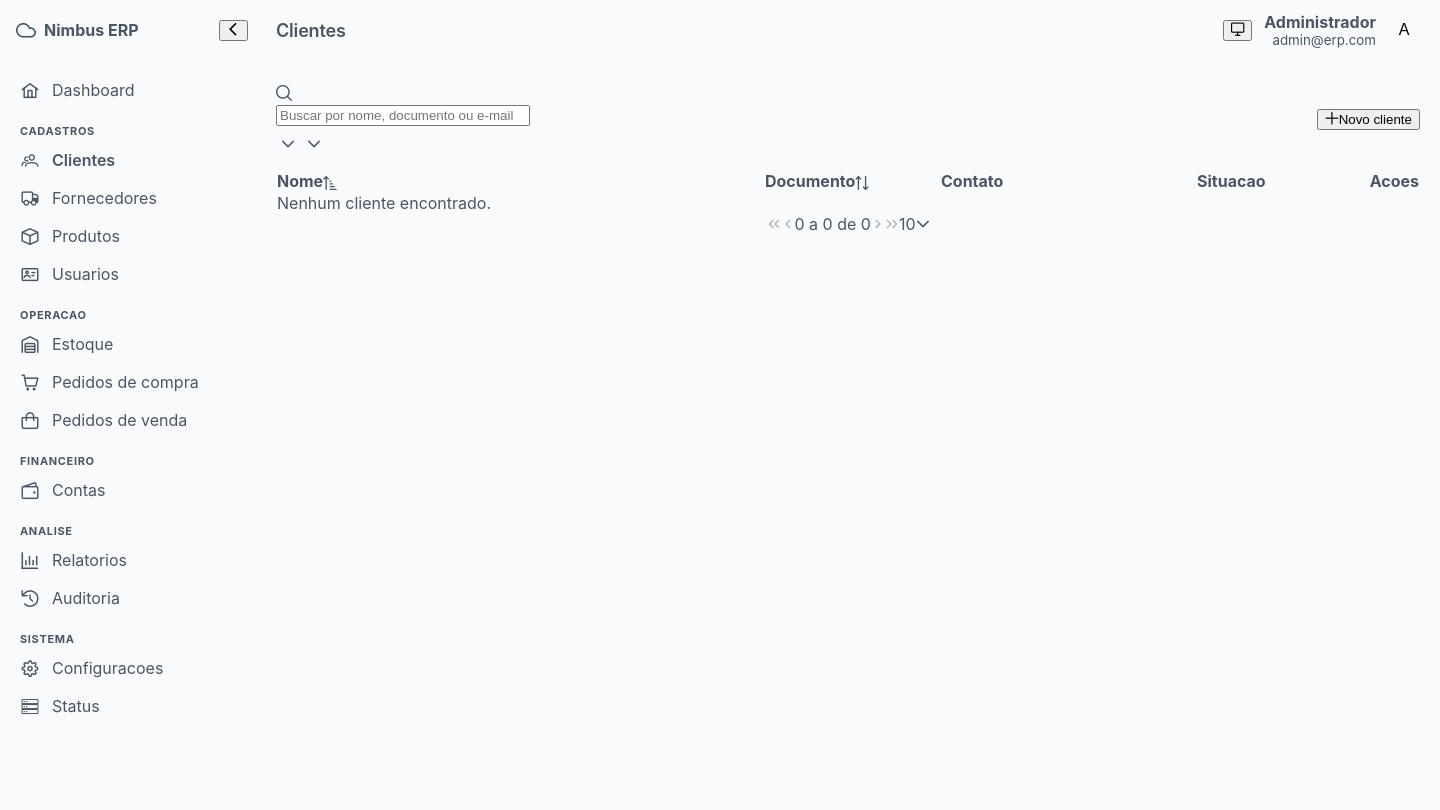
Test: CRUD de clientes › bloqueia o envio quando o CPF tem digito verificador errado
Expected: the heading "Clientes" is shown, [276,20,346,40]
Click the button "Novo cliente" at (1369, 119), box [1317,108,1420,130]
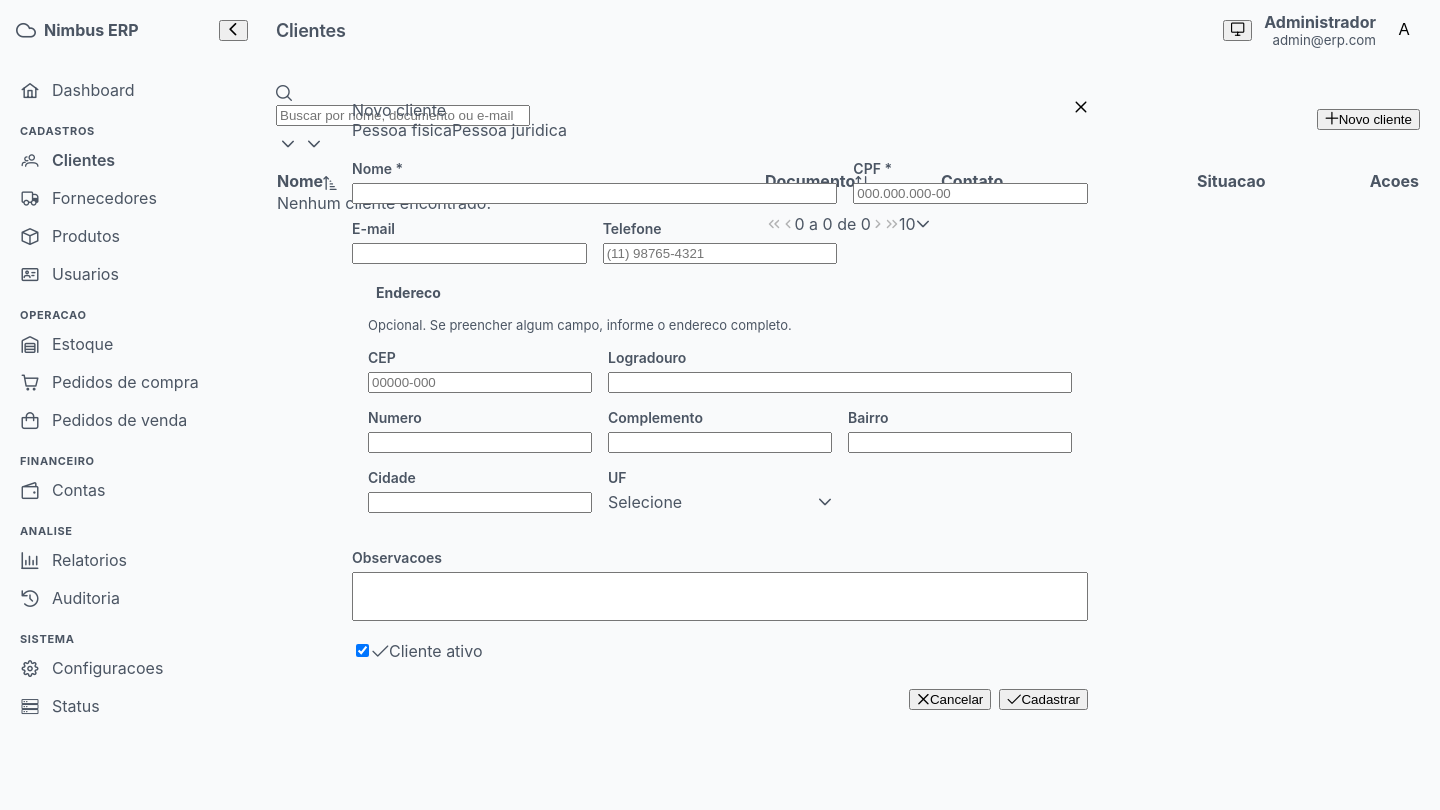
Type "Maria" into the field labelled "Nome *" at (595, 194), box [352,183,837,204]
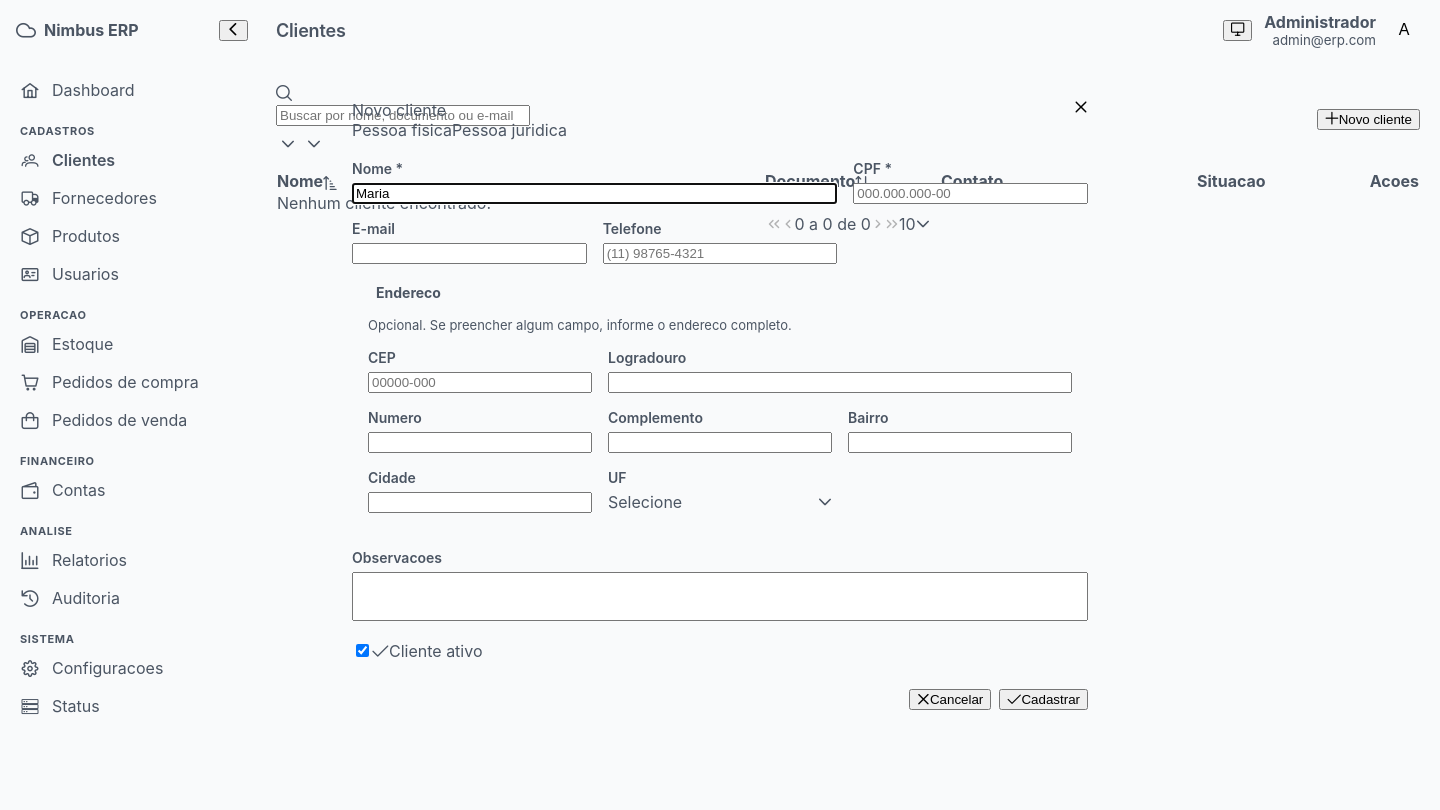
Type "12345678901" into the field labelled "CPF *" at (971, 194), box [853,183,1088,204]
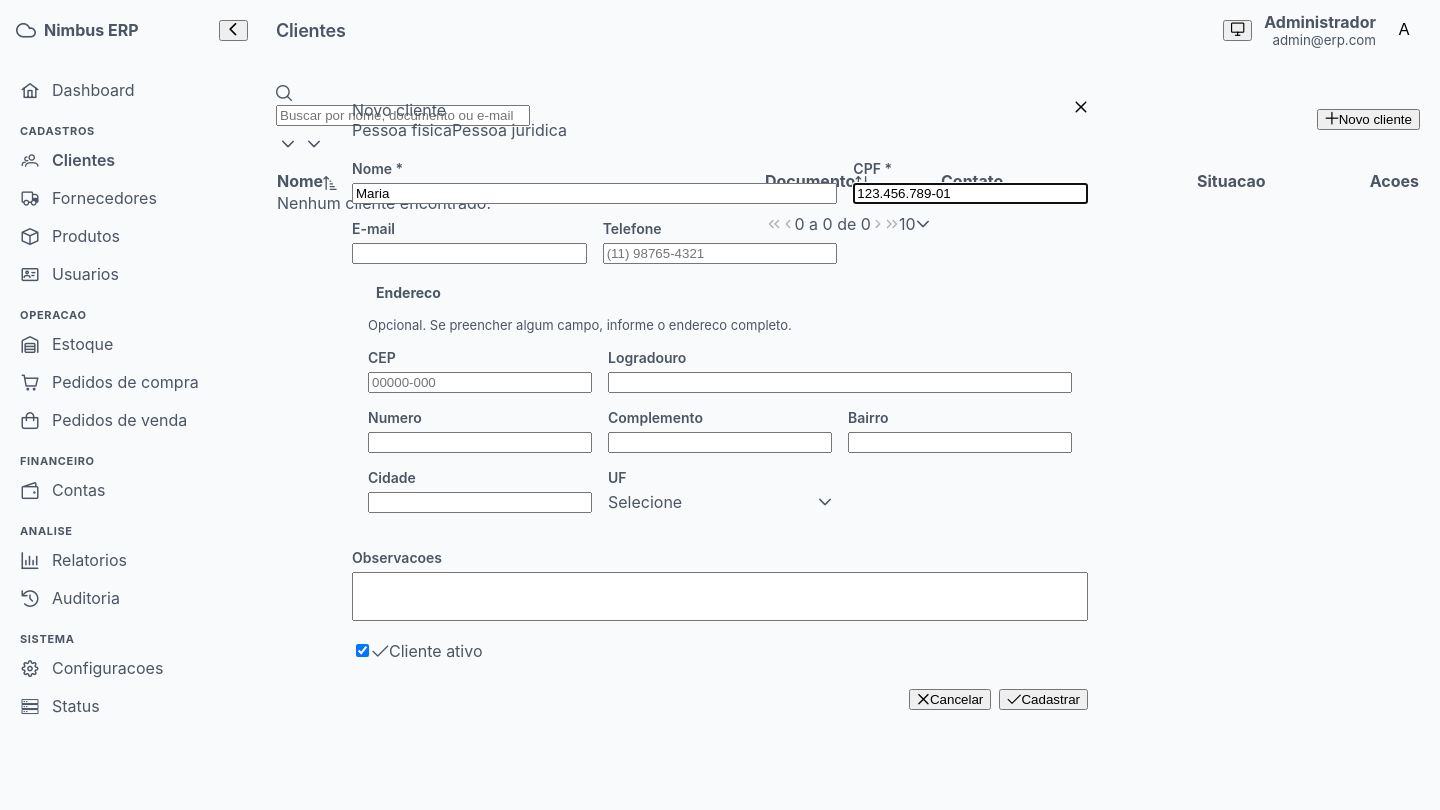
Click the button "Cadastrar" at (1044, 700), box [999,689,1088,710]
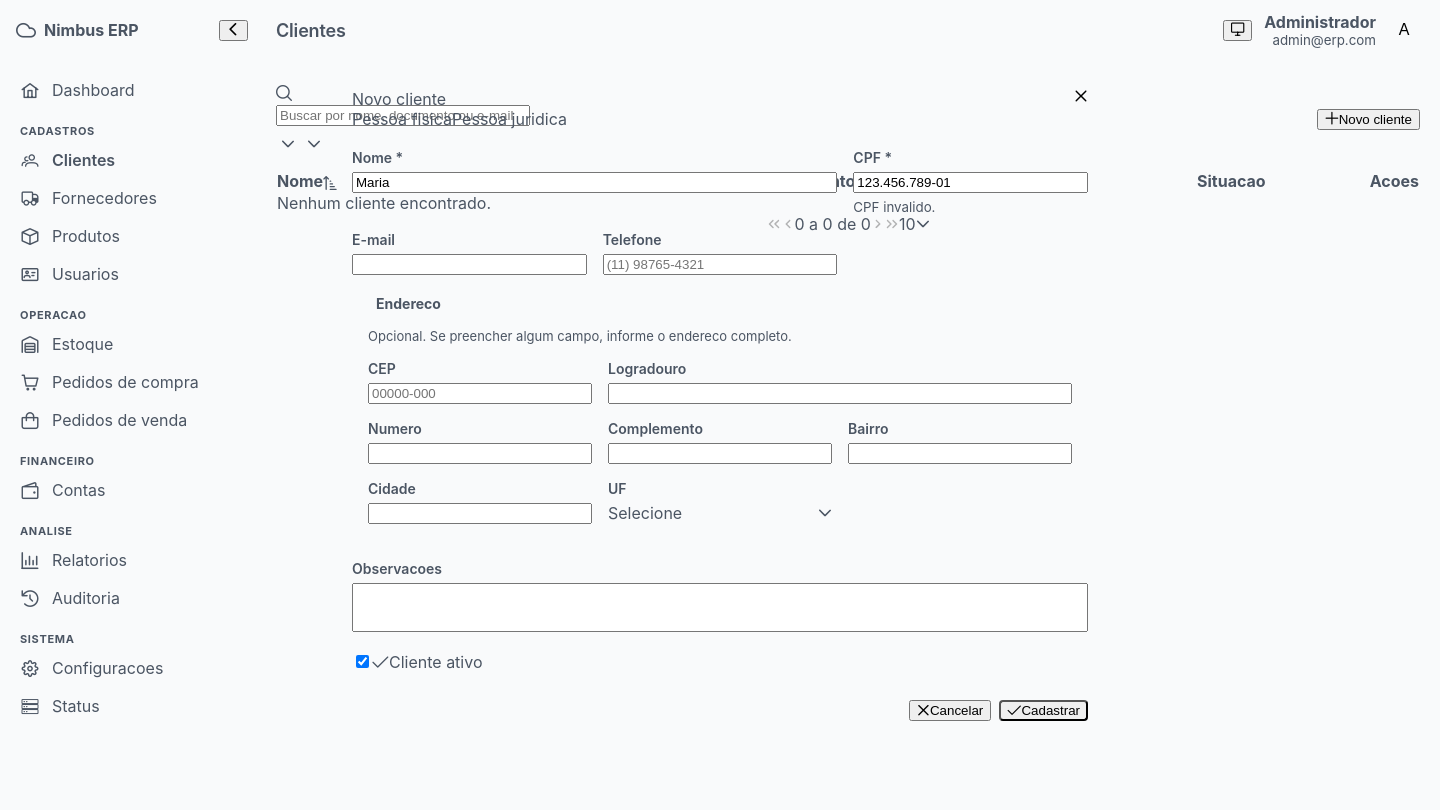
Result: the text "CPF invalido." is shown at [853,199,935,215]
